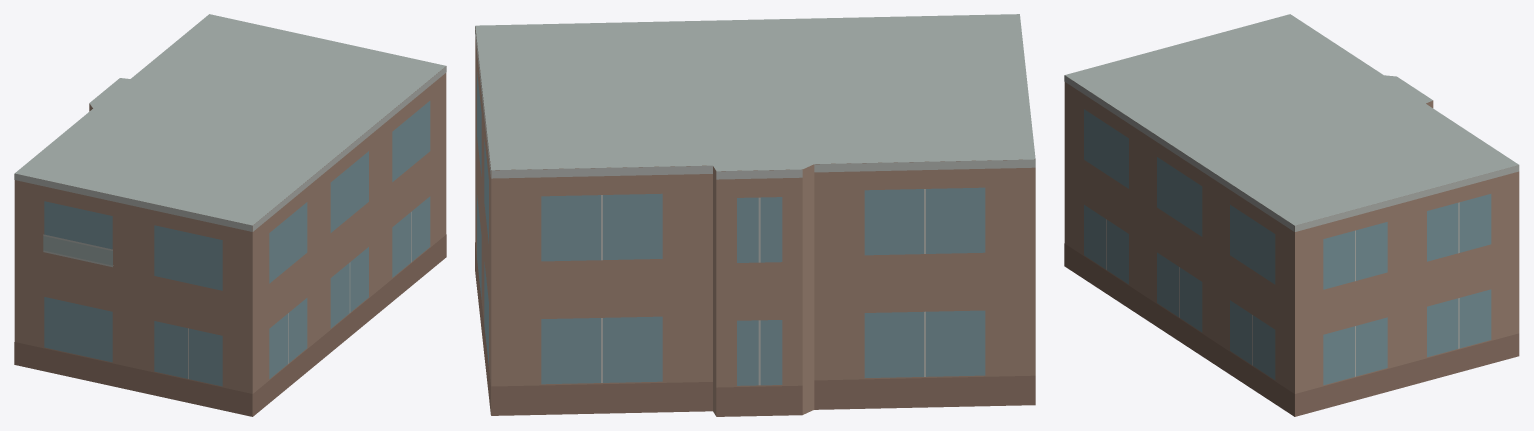
The model's file is survey-upis-32952832.glb.
3 views of the same model, side by side, from view 1: azimuth 30°, elevation 25°; view 2: azimuth 150°, elevation 25°; view 3: azimuth 270°, elevation 25° (orthographic). The views are drawn at different scales.
Parts seen in each view (by area): view 1: survey-upis-32952832.tmp; view 2: survey-upis-32952832.tmp; view 3: survey-upis-32952832.tmp.
Part boxes in pixels (left/top/right/bottom): survey-upis-32952832.tmp: left=14, top=14, right=446, bottom=416; survey-upis-32952832.tmp: left=475, top=14, right=1035, bottom=416; survey-upis-32952832.tmp: left=1064, top=14, right=1519, bottom=416.
Size of the model in its own units: 17.11 by 7.2 by 15.53.
